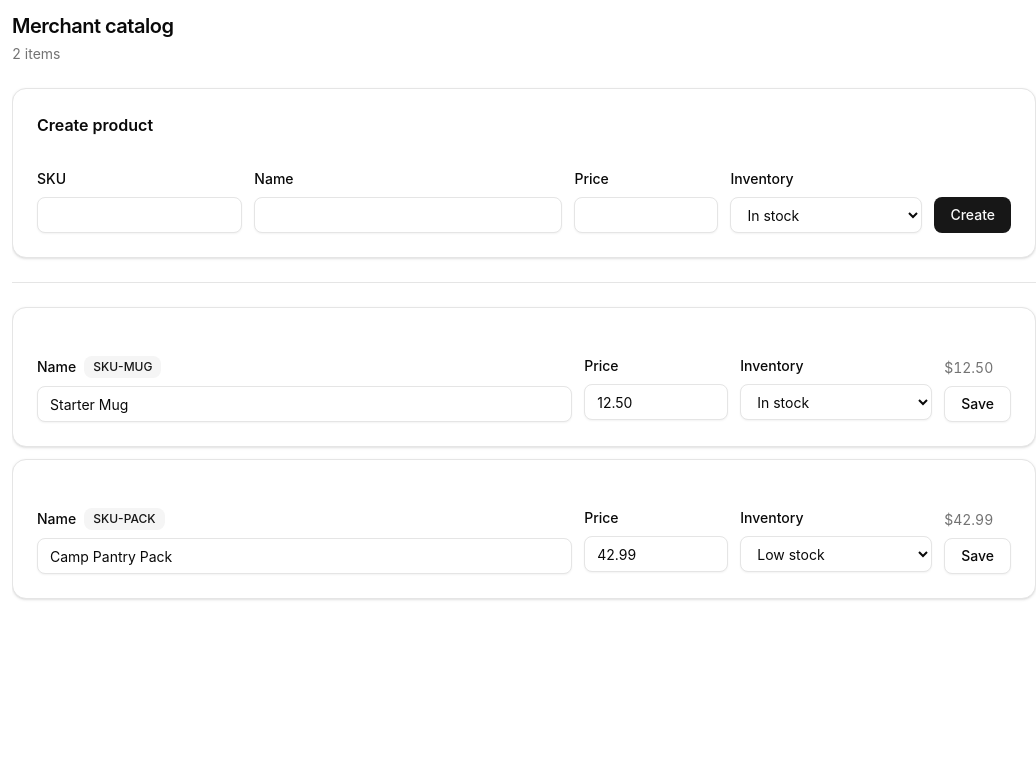
Scenario: MerchantCatalogRoute › renders products and creates a product through the catalog write API
Check: the heading "Merchant catalog" is shown, box [12,14,173,38]
Check: the form "Create" is shown, box [37,169,1011,233]
Type "SKU-NEW" into the field labelled "SKU". click: (140, 215)
box: [37,197,242,233]
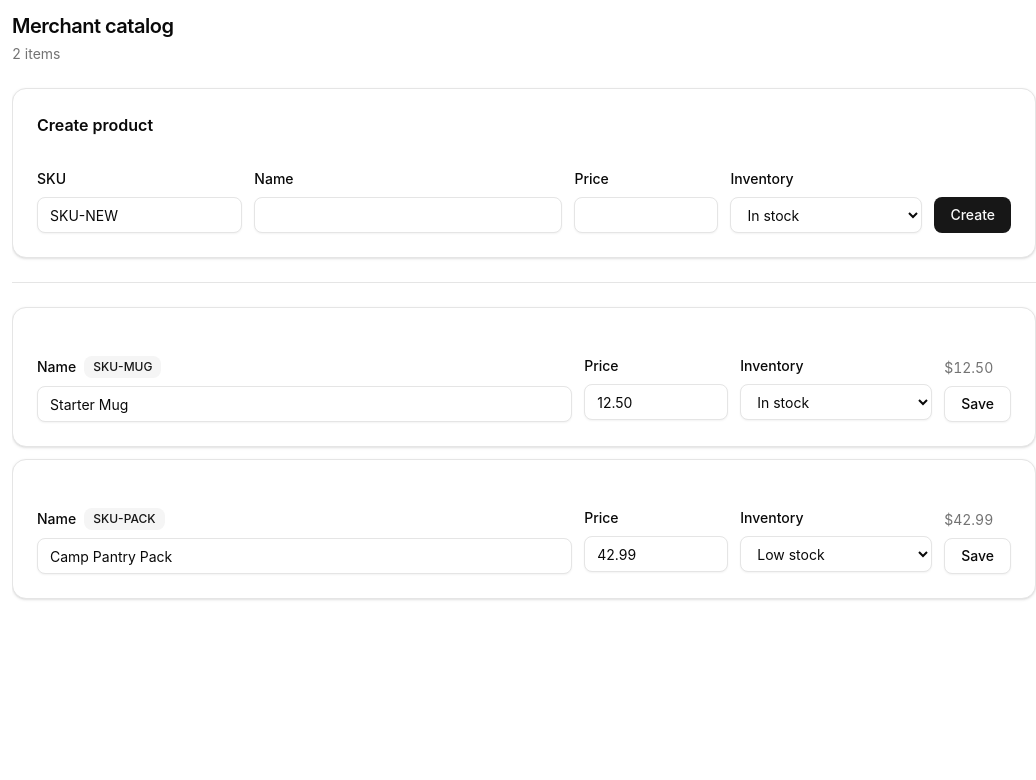
Type "Trail Spoon" into the field labelled "Name" below "Create product". click: (408, 215)
box: [254,197,562,233]
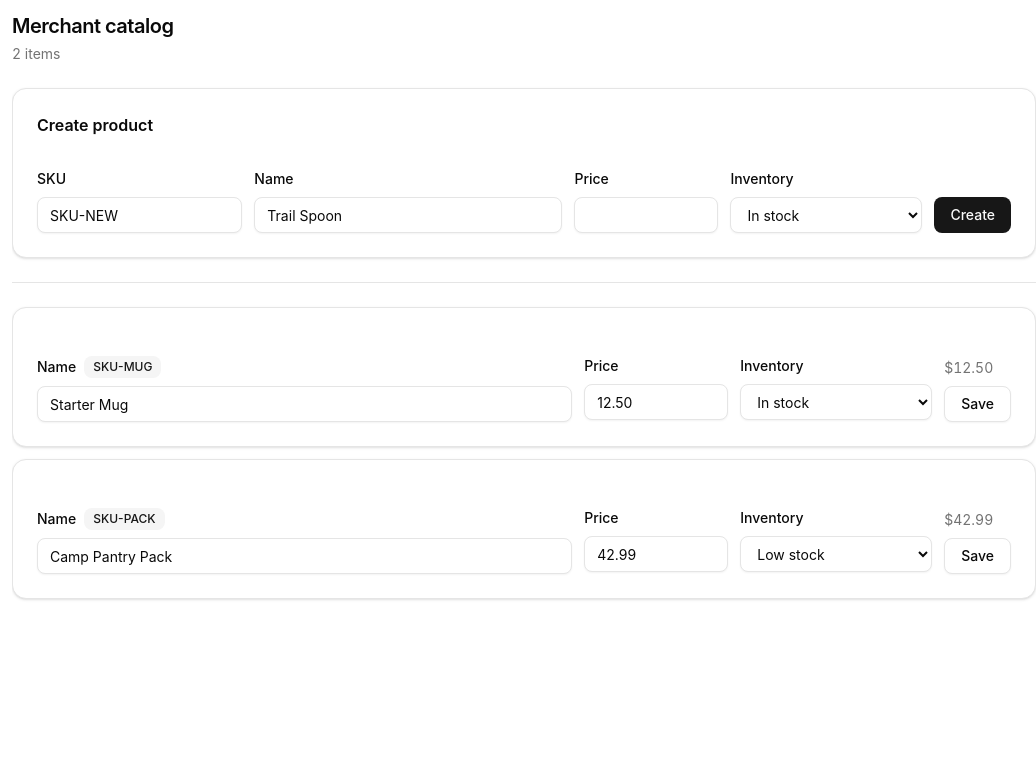
Type "7.99" into the 1st number field labelled "Price". click: (646, 215)
box: [574,197,718,233]
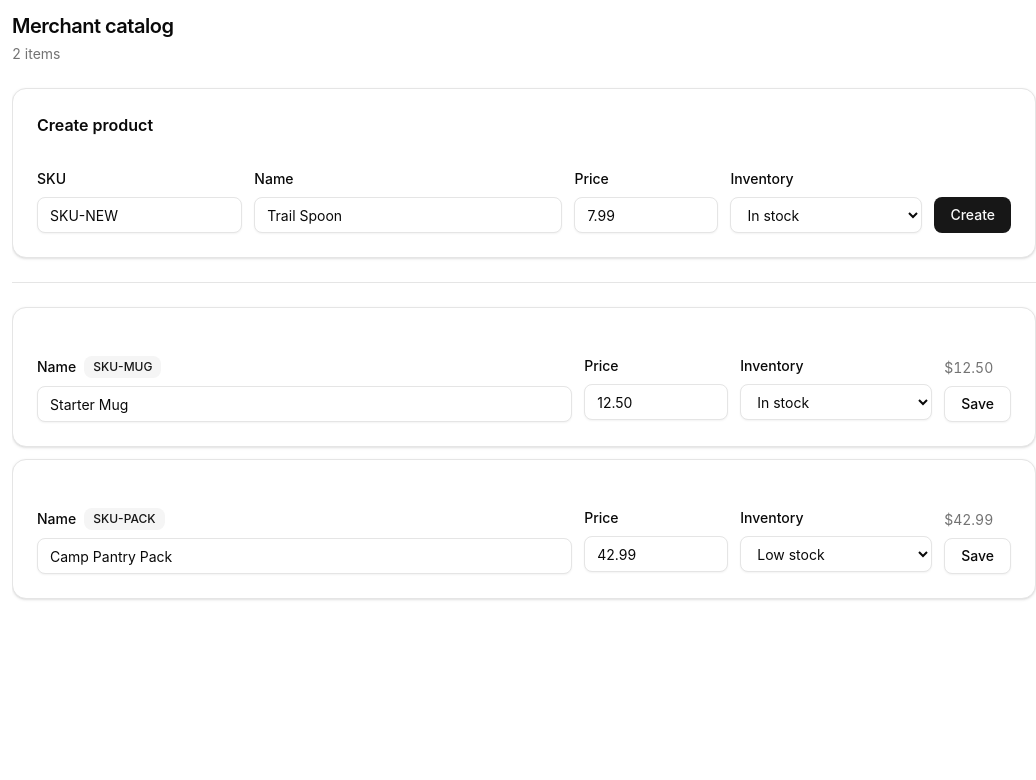
Submit the form "Create", box [37,169,1011,233]
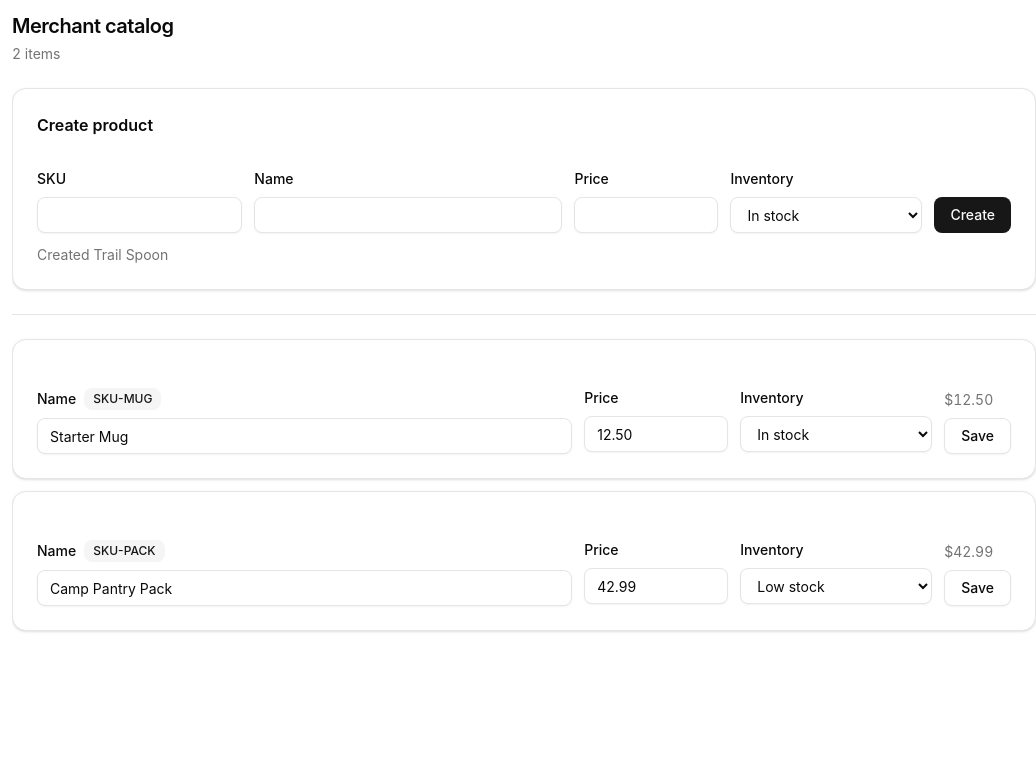
Check: the text "Created Trail Spoon" is shown, box [37,246,168,263]
